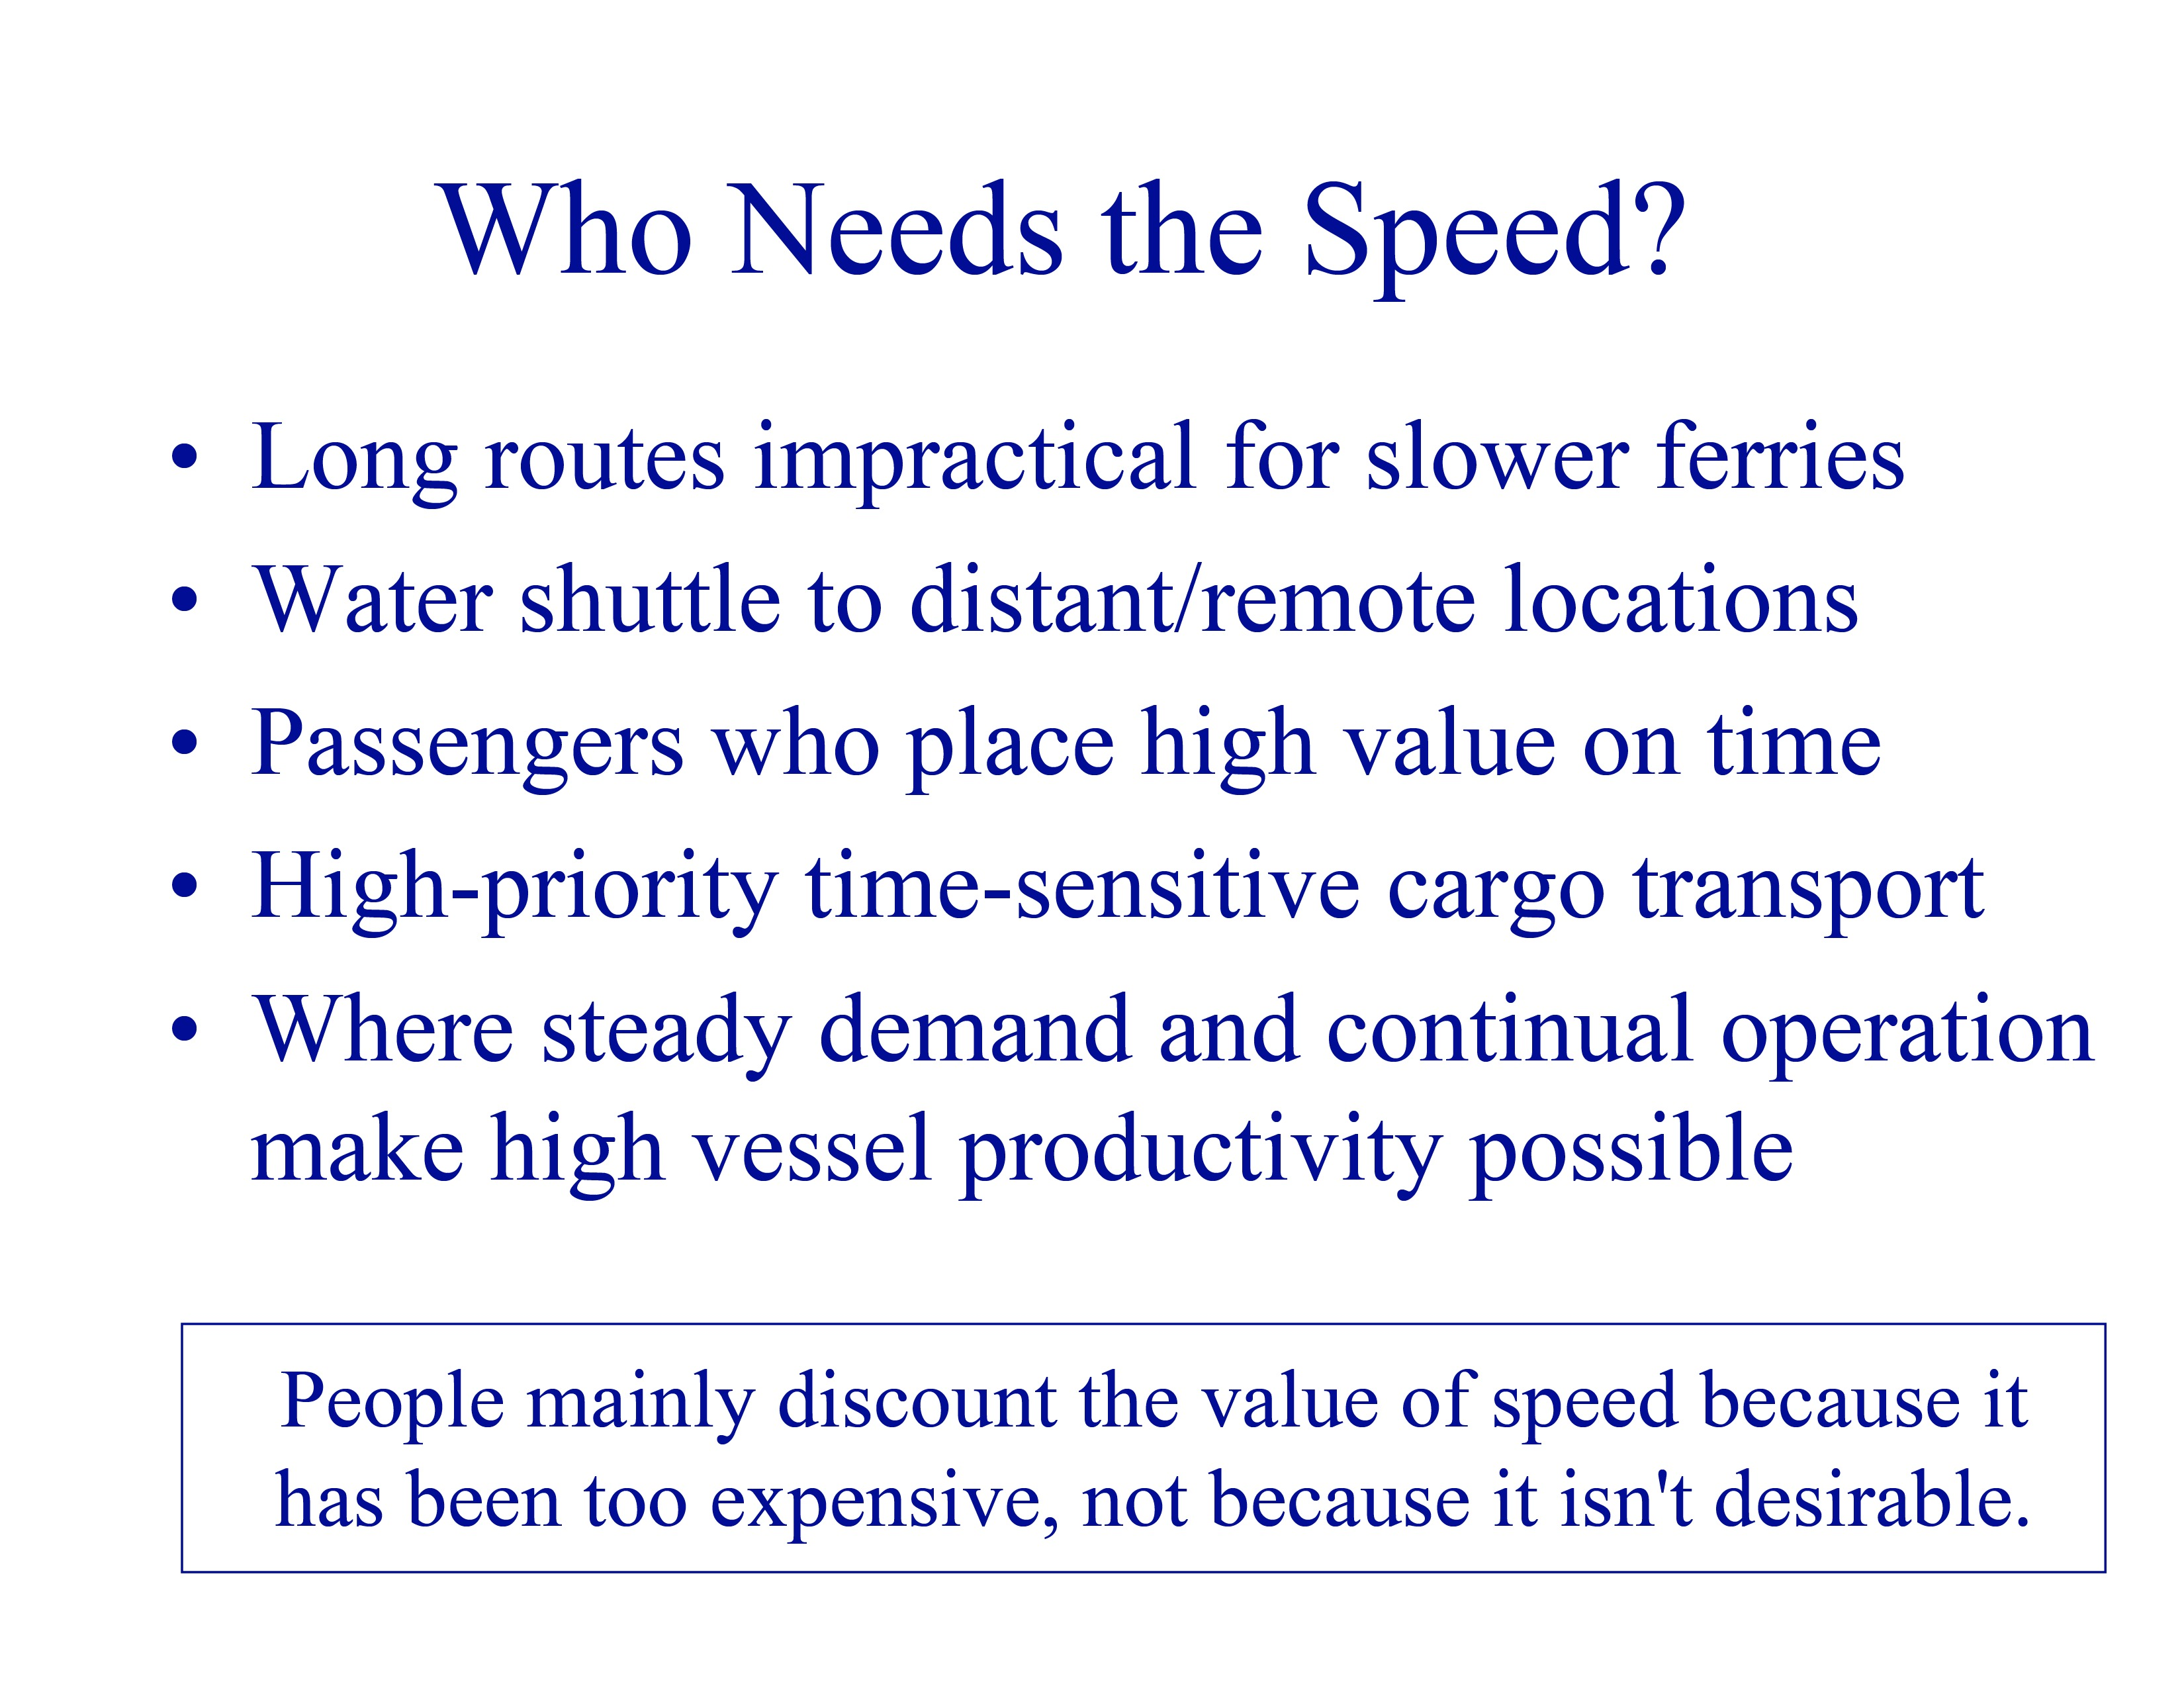list: (163, 394, 2094, 1211)
section: (459, 161, 1695, 294)
text: (277, 1372, 2056, 1544)
